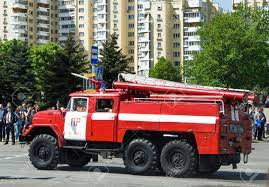special: (21, 73, 253, 178)
